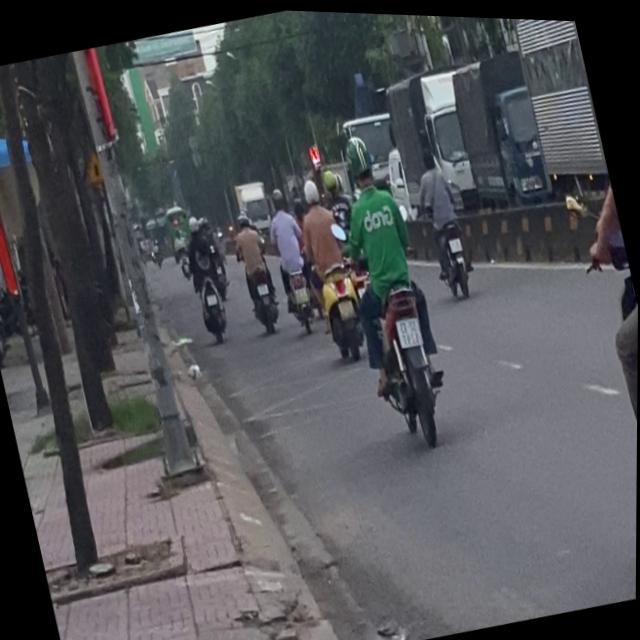helmet: (343, 128, 380, 186), (302, 176, 322, 204)
licenseplate: (316, 118, 466, 451), (288, 168, 373, 367)
nohelmet: (396, 313, 424, 346), (338, 295, 356, 318)
